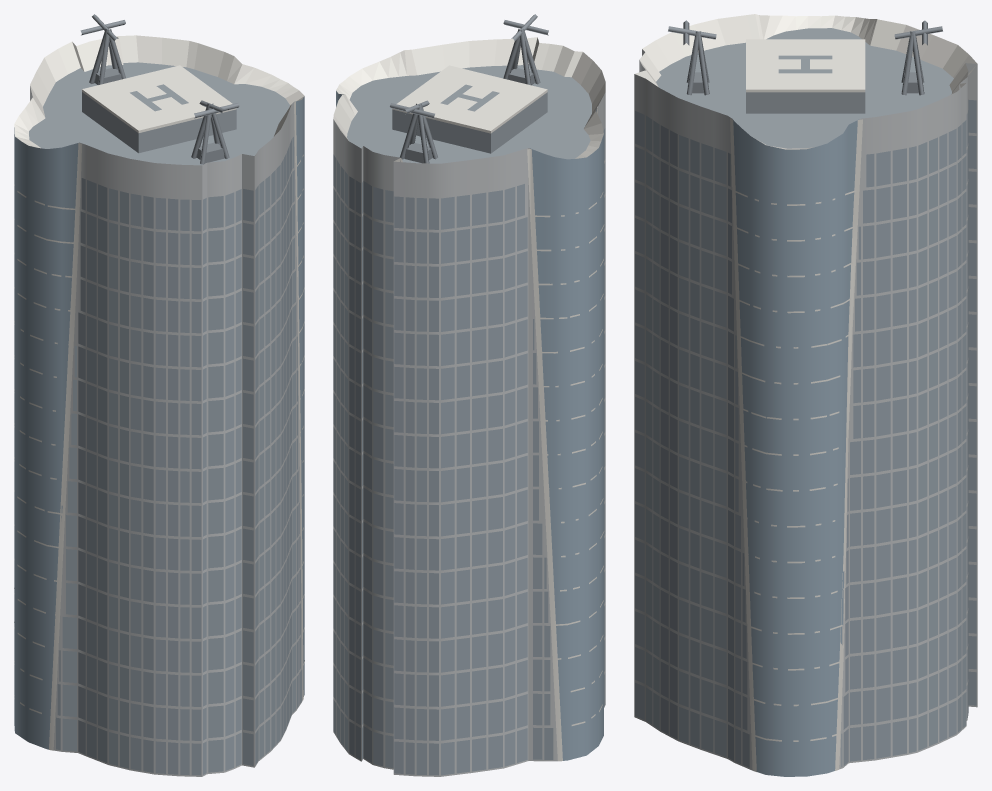
File: tokyo-roppongi-hills-mori-tower.glb
The picture shows the model from 3 angles, left to right: view 1: azimuth 30°, elevation 25°; view 2: azimuth 150°, elevation 25°; view 3: azimuth 270°, elevation 25°; orthographic projection. The views are drawn at different scales.
Visible parts, largest first — view 1: Roppongi Hills Mori Tower; view 2: Roppongi Hills Mori Tower; view 3: Roppongi Hills Mori Tower.
Part boxes in pixels (x1,y1,x2,y2): Roppongi Hills Mori Tower: (14,14,304,776); Roppongi Hills Mori Tower: (333,14,605,776); Roppongi Hills Mori Tower: (634,14,977,776).
Size of the model in its own units: 106 by 253 by 115.
